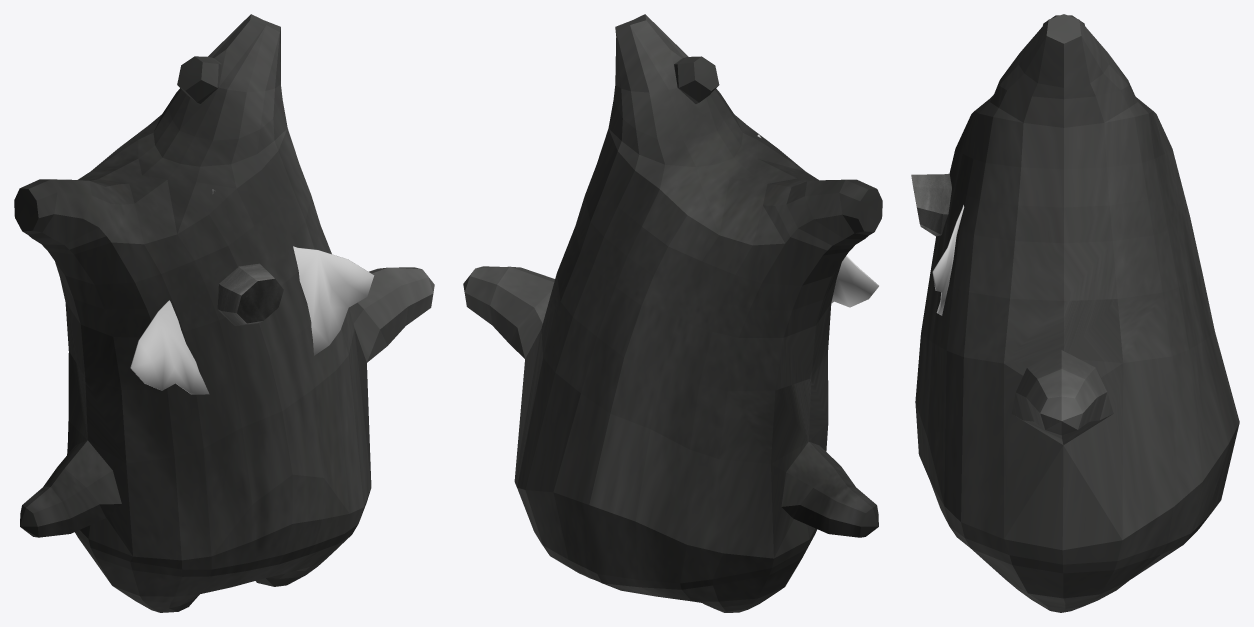
File: frame_0010.obj
3 views of the same model, side by side, from view 1: azimuth 30°, elevation 25°; view 2: azimuth 150°, elevation 25°; view 3: azimuth 270°, elevation 25° (orthographic). The views are drawn at different scales.
Parts seen in each view (by area): view 1: korok, leaf, nose; view 2: korok, leaf; view 3: korok, nose, leaf.
Boxes of the visible parts, x1,y1,x2,y2 form: korok: (14,14,434,612); leaf: (130,189,374,394); nose: (217,263,283,325); korok: (463,14,882,612); leaf: (757,134,878,307); korok: (915,14,1239,612); nose: (911,173,951,236); leaf: (932,205,964,315).
Bounding box in the file's own units: 1.76 × 2.31 × 1.18.
